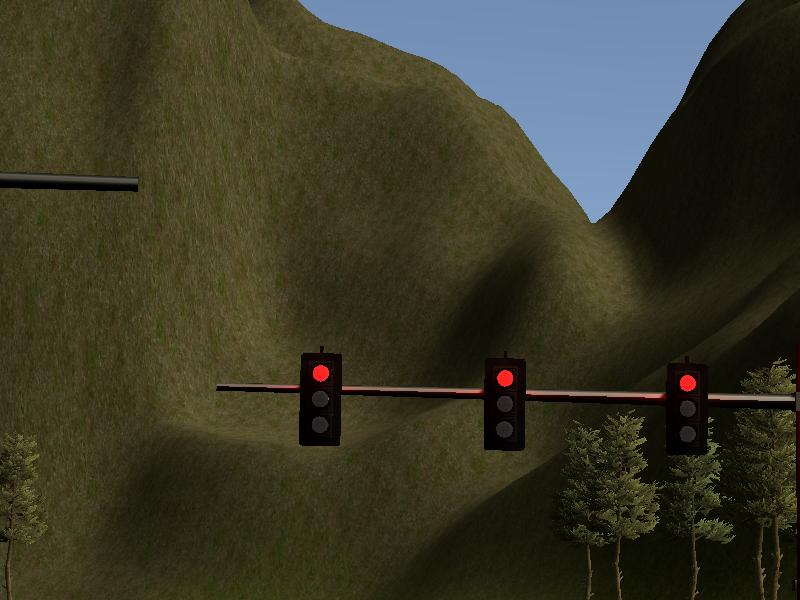Red: (299, 351, 339, 447), (485, 356, 525, 451), (668, 363, 706, 452)
